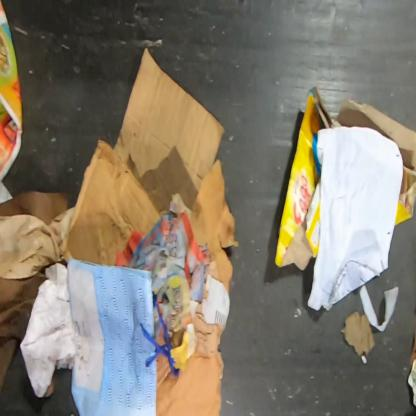cardboard: (60, 47, 239, 296), (274, 84, 415, 272), (67, 258, 157, 416), (155, 302, 225, 416)
